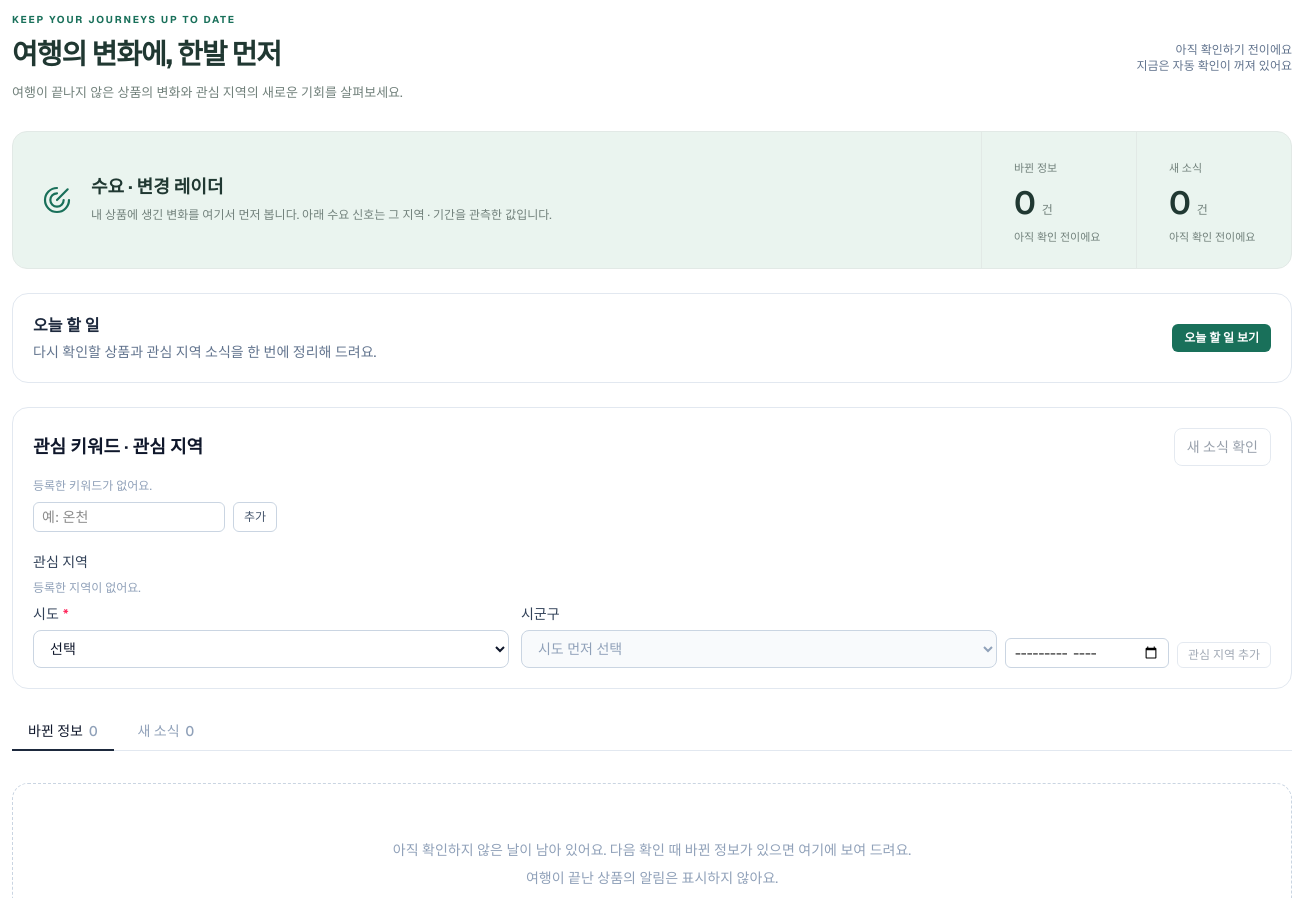
오늘 할 일 — 요청이 실패하면 (FR-AG-005) › 앞서 받은 정리가 있어도 실패하면 그 할 일 수를 제목에 남기지 않는다
Click the button "오늘 할 일 보기" at [1222, 338], box [1172,324,1271,352]
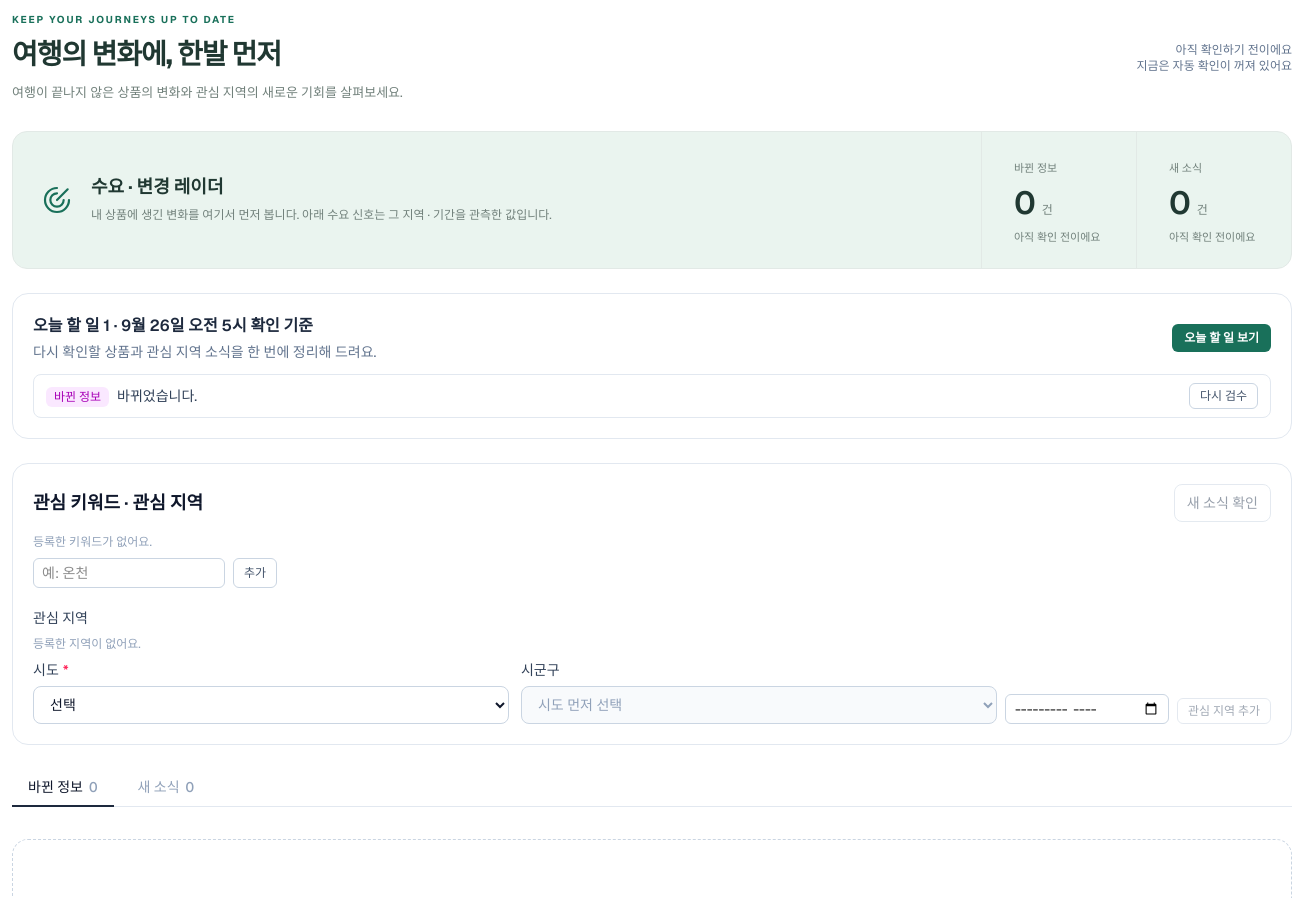
Now the heading "오늘 할 일 1 · 9월 26일 오전 5시 확인 기준" is shown, box [33,315,313,336]
Click the button "오늘 할 일 보기" at [1222, 338], box [1172,324,1271,352]
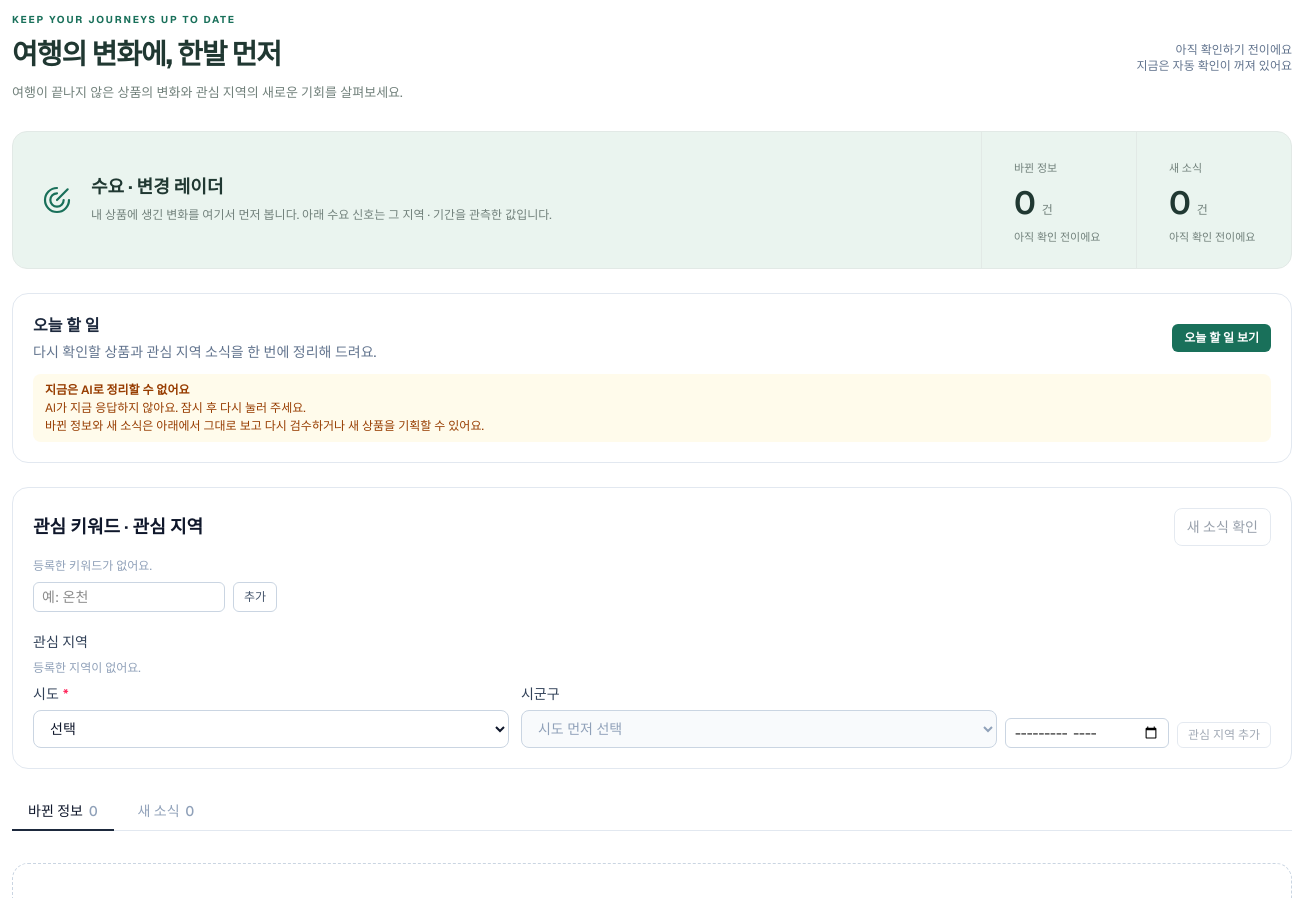
Expected: the heading "오늘 할 일" is shown, [33,315,99,336]
Now the text "지금은 AI로 정리할 수 없어요" is shown, box [45,382,190,398]
